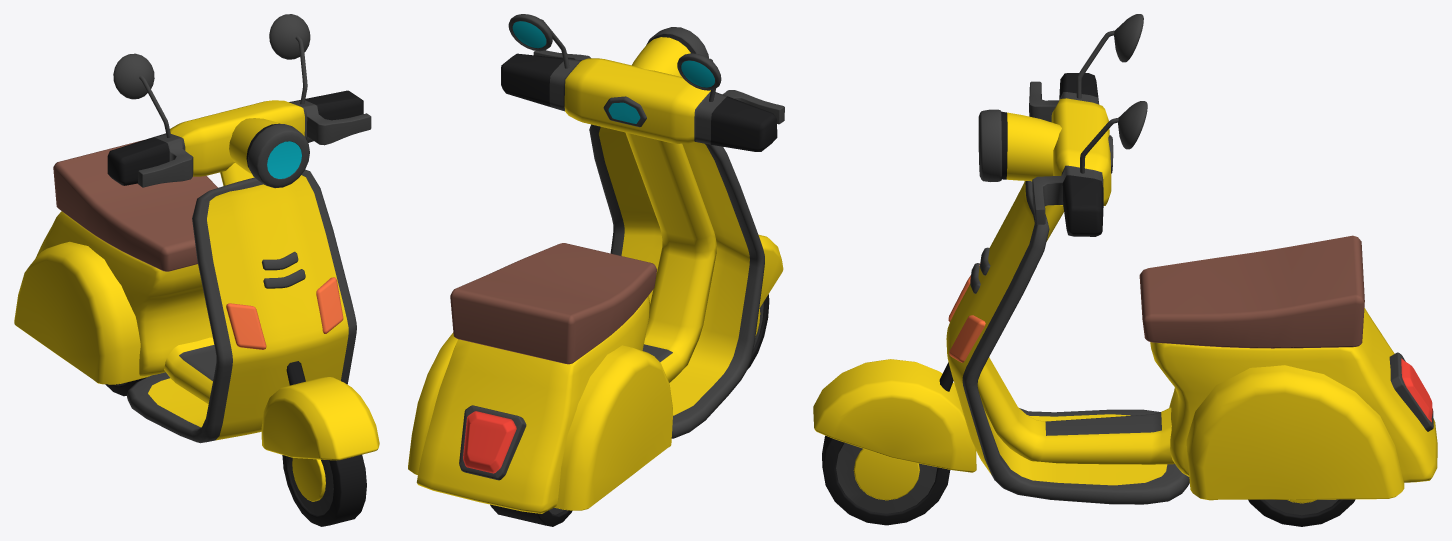
The model's file is Town_6_Ial_6_Scooter_2.glb.
3 views of the same model, side by side, from view 1: azimuth 30°, elevation 25°; view 2: azimuth 150°, elevation 25°; view 3: azimuth 270°, elevation 25° (orthographic). The views are drawn at different scales.
Visible parts, largest first — view 1: Town_6_Ial_6_Scooter_2; view 2: Town_6_Ial_6_Scooter_2; view 3: Town_6_Ial_6_Scooter_2.
Part boxes in pixels (box(x1,y1,x2,y2)): Town_6_Ial_6_Scooter_2: box(14, 14, 379, 526); Town_6_Ial_6_Scooter_2: box(408, 14, 784, 526); Town_6_Ial_6_Scooter_2: box(813, 14, 1437, 526).
Size of the model in its own units: 1.2 by 1.87 by 2.32.
1 material, 1 textured.
